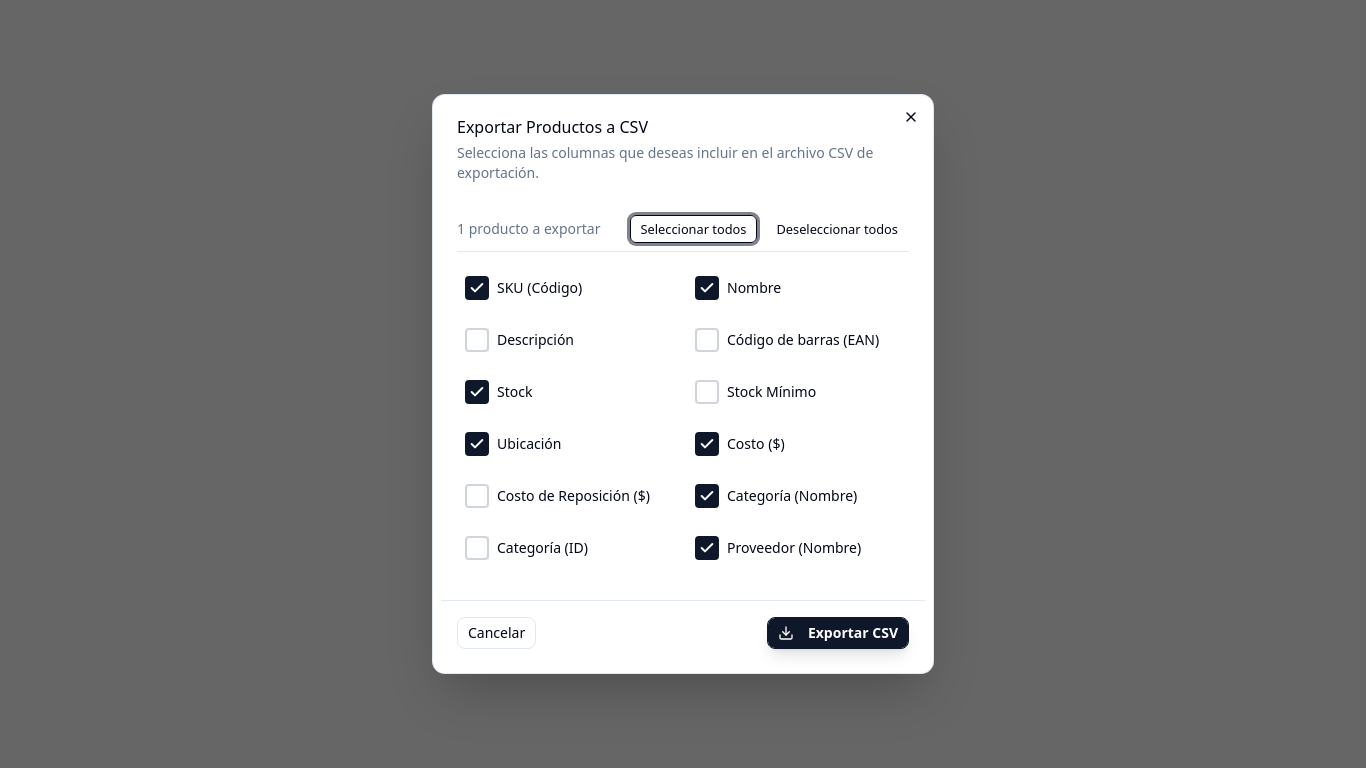
Scenario: ProductExportModal › selects and deselects all columns correctly
Click the button "Deseleccionar todos" at (837, 229), box [765, 215, 909, 243]
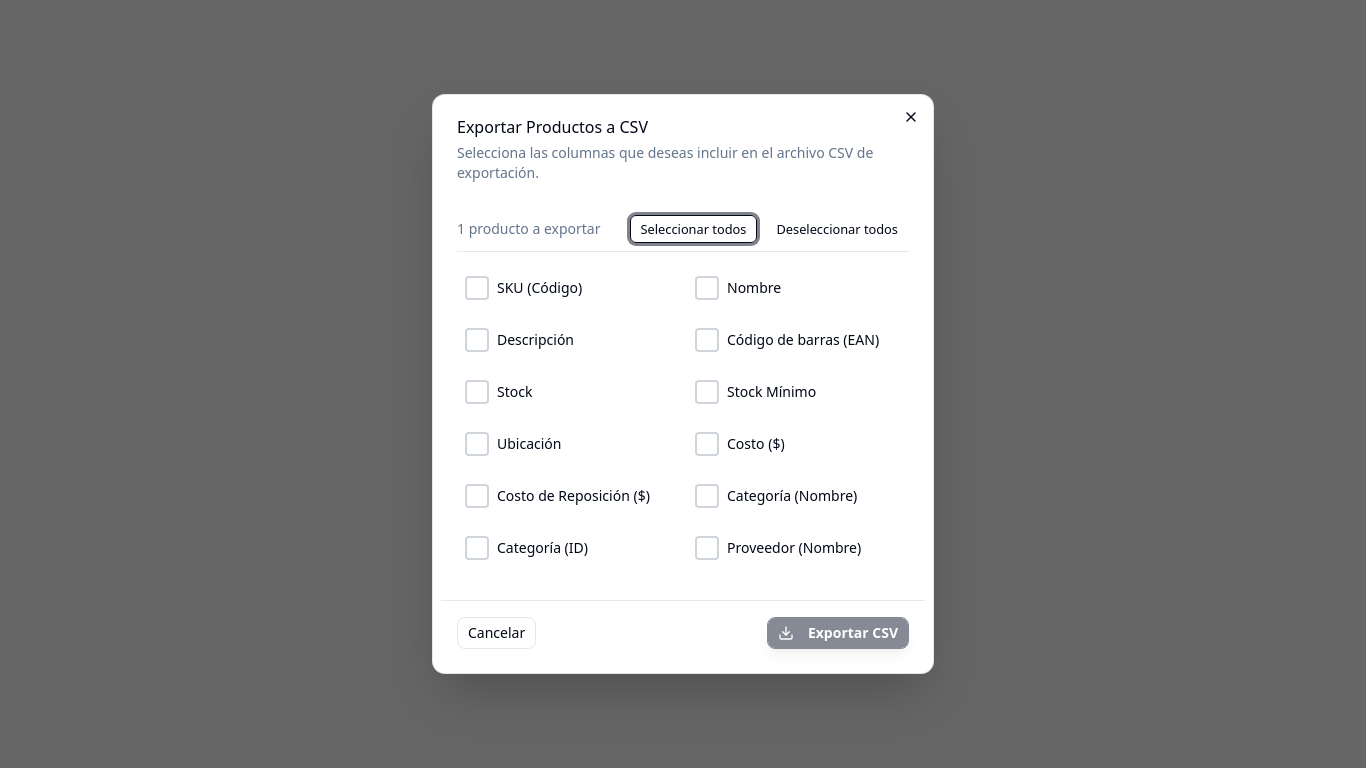
Check: the checkbox labelled "SKU (Código)" is not checked, box [465, 276, 489, 300]
Check: the checkbox labelled "Nombre" is not checked, box [695, 276, 719, 300]
Check: the checkbox labelled "Stock" is not checked, box [465, 380, 489, 404]
Click the button "Seleccionar todos" at (693, 229), box [630, 215, 757, 243]
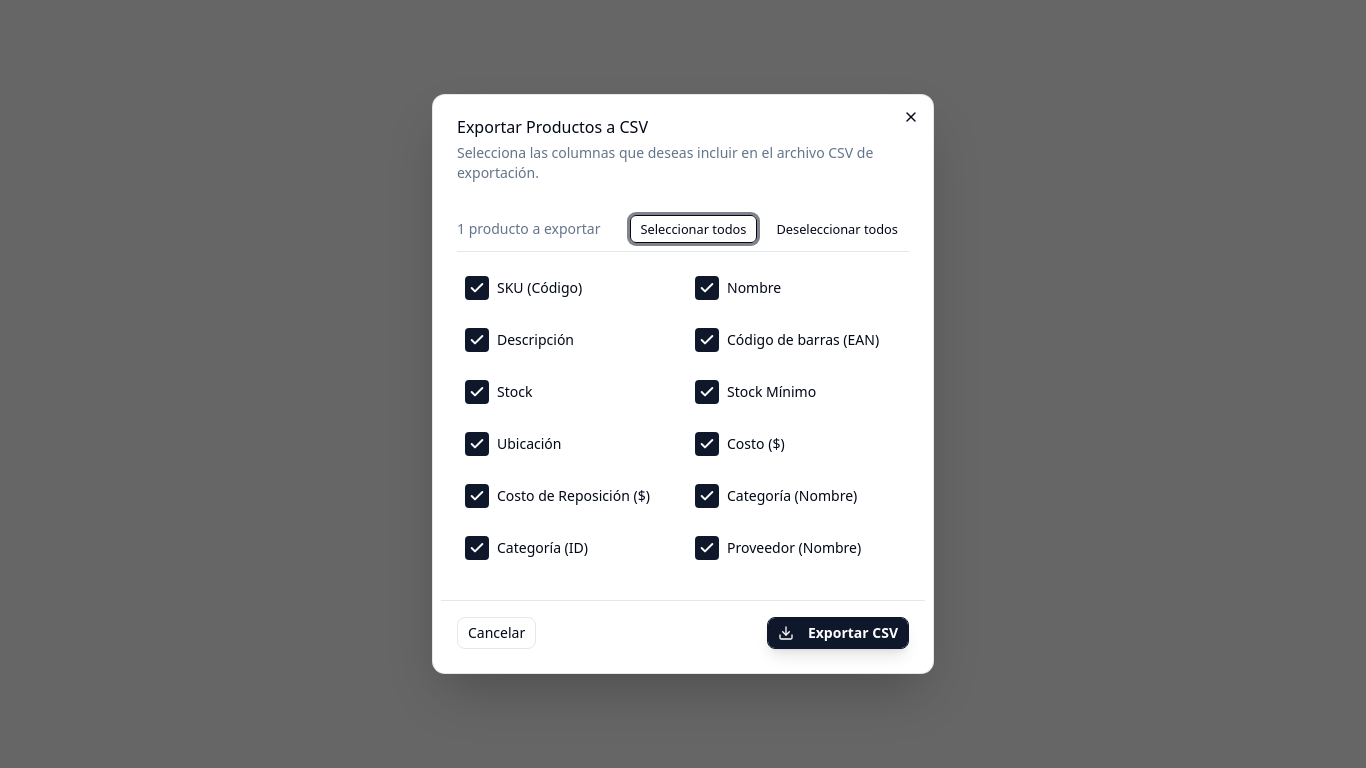
Check: the checkbox labelled "SKU (Código)" is checked, box [465, 276, 489, 300]
Check: the checkbox labelled "Nombre" is checked, box [695, 276, 719, 300]
Check: the checkbox labelled "Descripción" is checked, box [465, 328, 489, 352]
